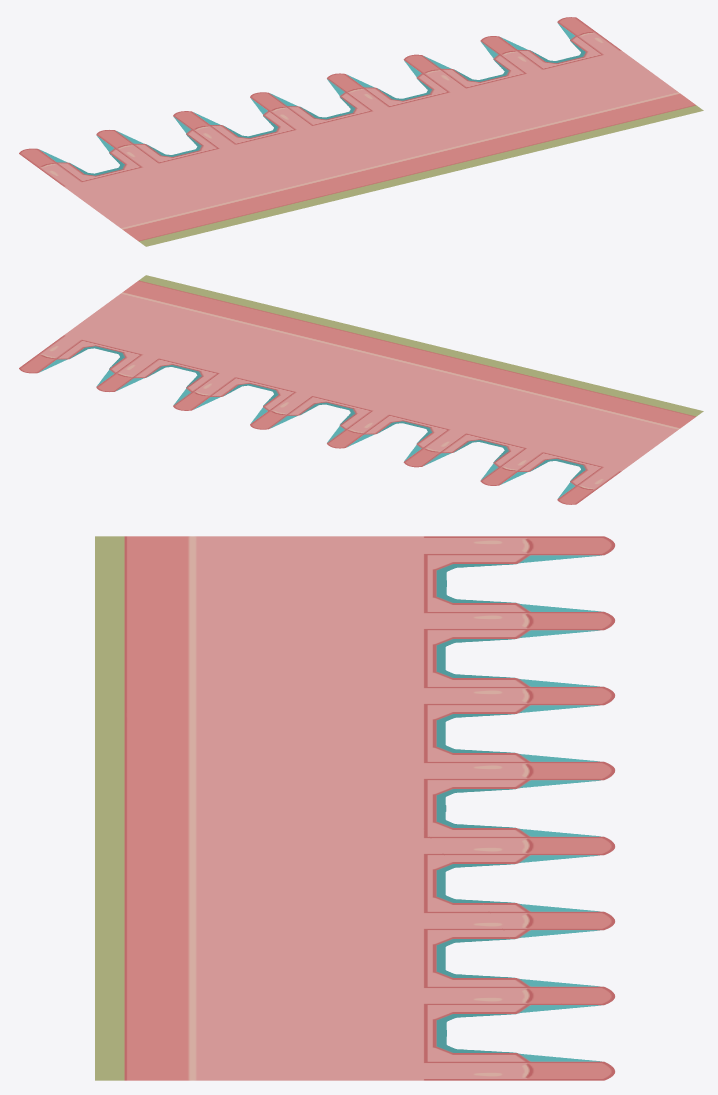
Rendered from Mesh_Activity_Pachinko_02_Shelf_02.fbx.
3 renders of one model, top to bottom at view 1: azimuth 30°, elevation 25°; view 2: azimuth 150°, elevation 25°; view 3: azimuth 270°, elevation 25°, orthographic. The views are drawn at different scales.
Parts seen in each view (by area): view 1: Mesh_Activity_Pachinko_02_Shelf_02; view 2: Mesh_Activity_Pachinko_02_Shelf_02; view 3: Mesh_Activity_Pachinko_02_Shelf_02.
Part boxes in pixels (bbox=[...]): Mesh_Activity_Pachinko_02_Shelf_02: bbox=[19, 17, 703, 246]; Mesh_Activity_Pachinko_02_Shelf_02: bbox=[19, 275, 703, 504]; Mesh_Activity_Pachinko_02_Shelf_02: bbox=[95, 536, 615, 1080].
Size of the model in its own units: 675 by 0 by 277.
Materials: 1 (1 with a texture image).
